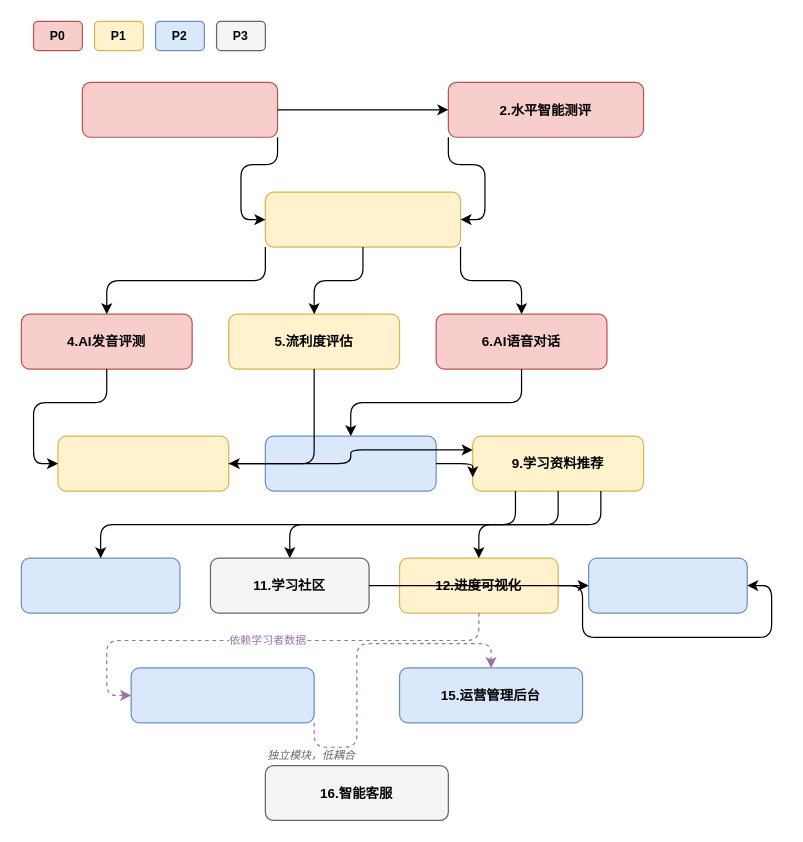
This 803x842 diagram has some shape labels left out. The shapes that lost their labels are listed below. From the top down, each one's centre as x and y in pixels, then its label:
At point 179,109: "1.用户注册与画像".
At point 362,219: "3.个性化学习路径".
At point 143,463: "7.AI语法纠错".
At point 350,463: "8.情景角色扮演".
At point 100,585: "10.游戏化闯关".
At point 667,585: "13.效果预测".
At point 222,695: "14.教师管理后台".
